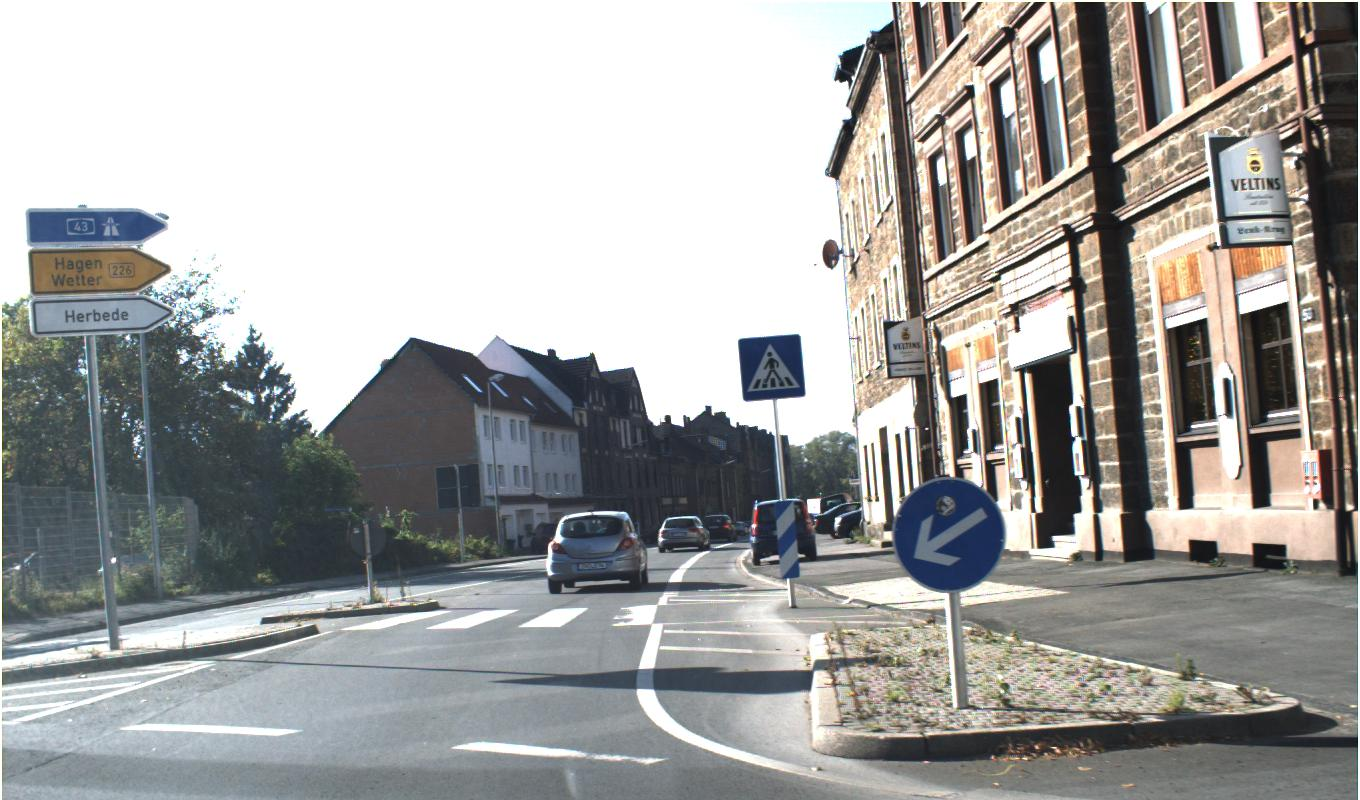mandatory: (892, 476, 1006, 592)
